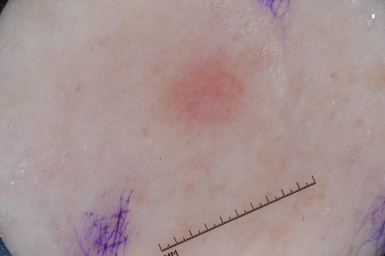seborrheic keratosis: (132, 47, 274, 163)
